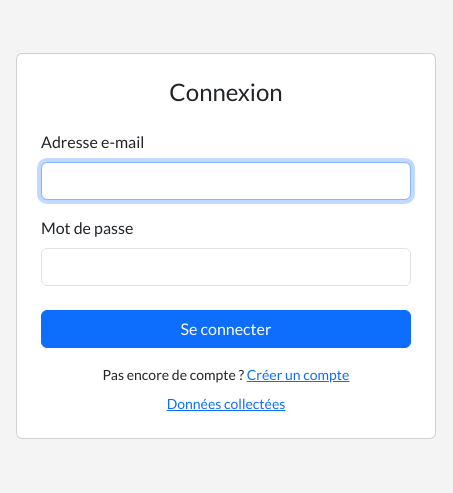
Test: shows an error message when login fails
Type "a@b.com" into the field at (226, 181), box [41,162,411,200]
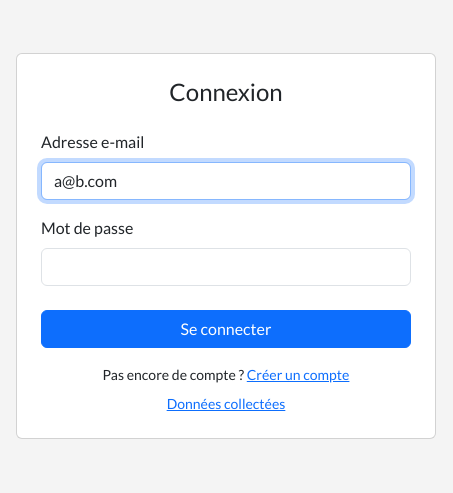
Type "wrong123" into the password field at (226, 267), box [41,248,411,286]
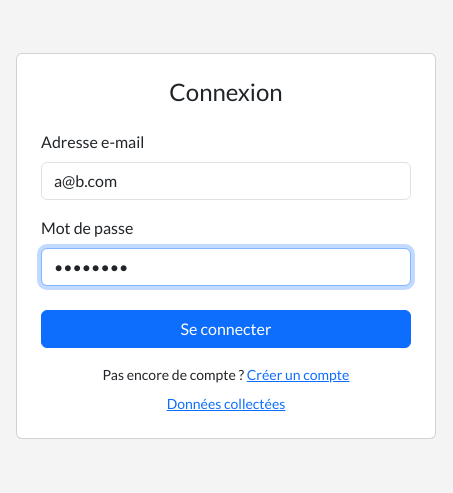
Click the button "Se connecter" at (226, 329), box [41,310,411,348]
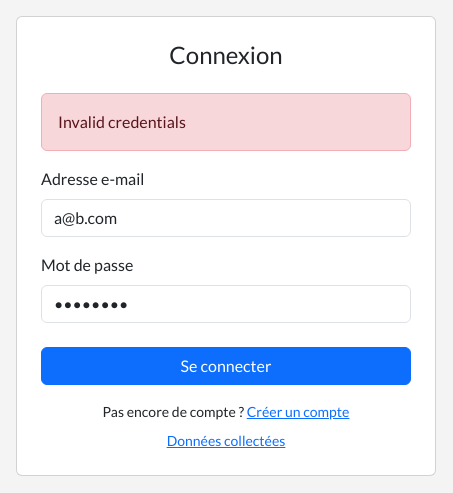
Check: the text "Invalid credentials" is shown, box [41,93,411,151]
